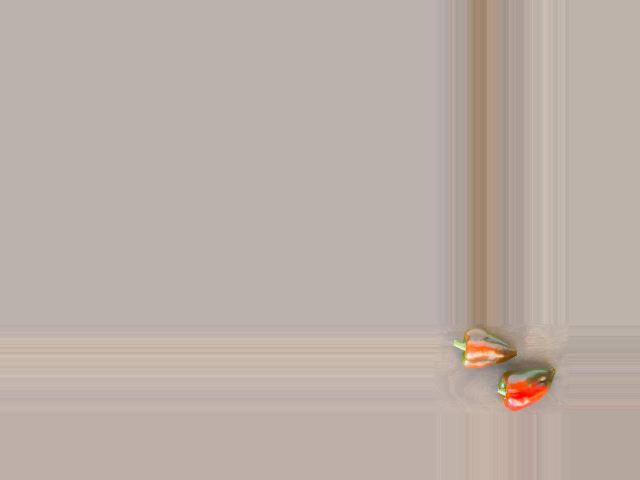bell_pepper: (476, 364, 558, 412)
